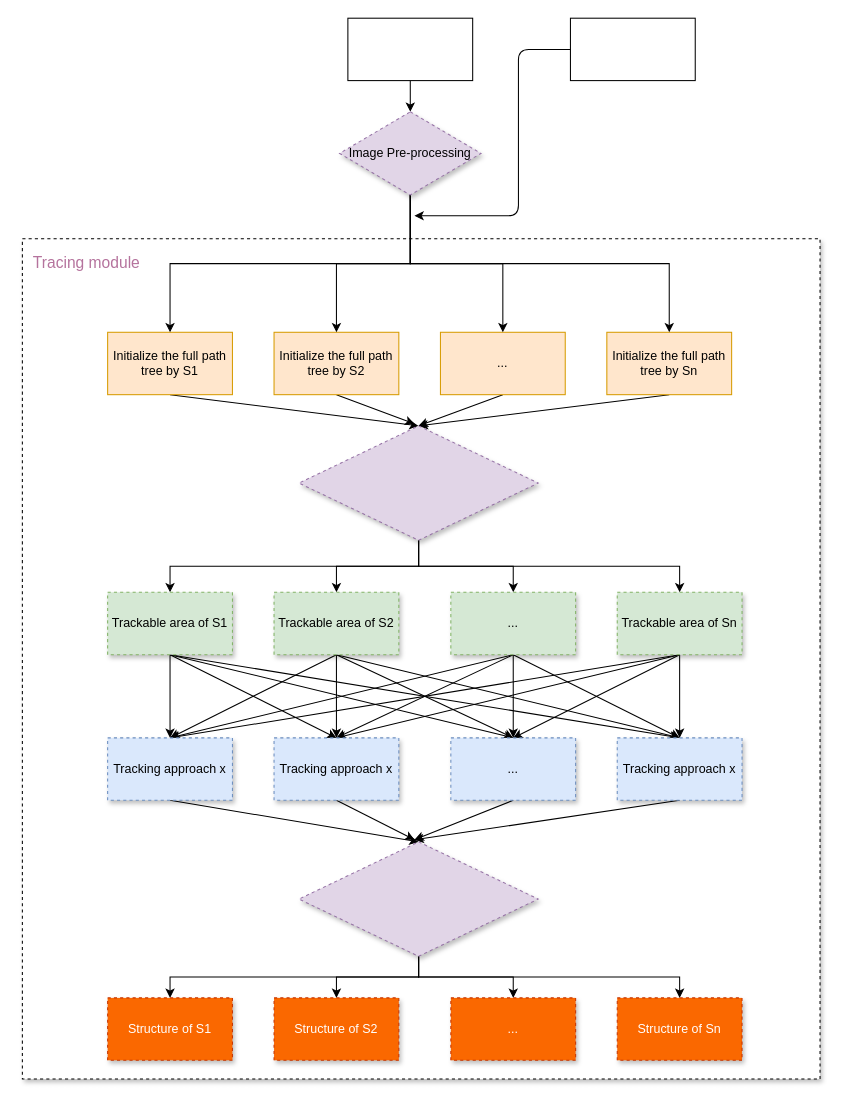
This 844x1104 diagram has some shape labels left out. The shapes that lost their labels are listed below. From the top down, each one's centre as x and y in pixels, then its label:
point (410, 49): Whole Brain Images
point (632, 49): Soma locations(S1,S2,...,Sn)
point (419, 484): Divide the tracking space
point (419, 900): Structural post-processing
